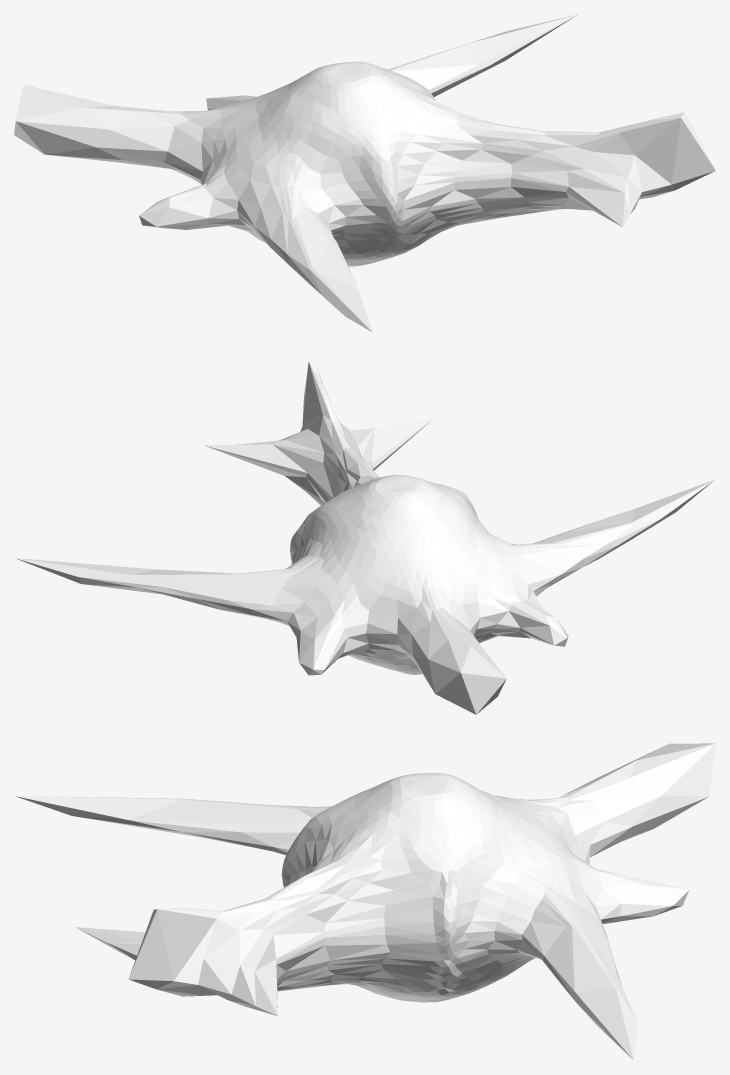
The model's file is plane_rotZ45[0.3,0.0,0.3]s1[-1.7,0.0,-1.7]_00120.obj.
The picture shows the model from 3 angles, top to bottom: view 1: azimuth 30°, elevation 25°; view 2: azimuth 150°, elevation 25°; view 3: azimuth 270°, elevation 25°; orthographic projection. The views are drawn at different scales.
Bounding box in the file's own units: 1.29 × 0.4194 × 1.28.
Materials: 1 (1 with a texture image).
